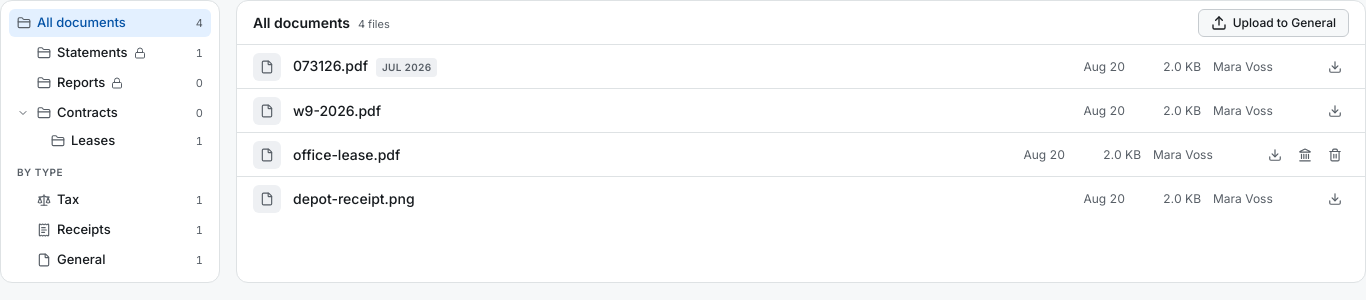
DocumentsPanel tree and grouping › filters the file list to a real folder by its stored-path segment
Click the text "Leases" at (93, 141), box [71, 131, 115, 151]
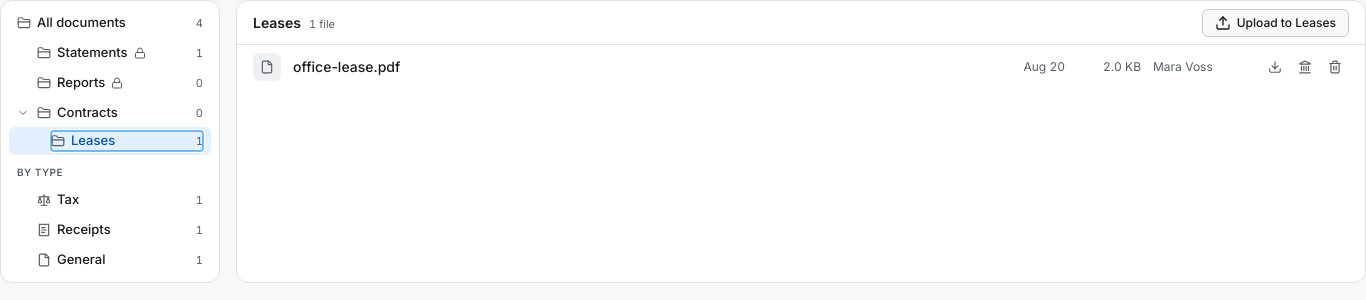
expect the list item with test id "document-row" shows "office-lease.pdf": met, box [293, 58, 400, 75]
expect the number of list items with test id "document-row" is 1: met, box [237, 45, 1365, 89]
